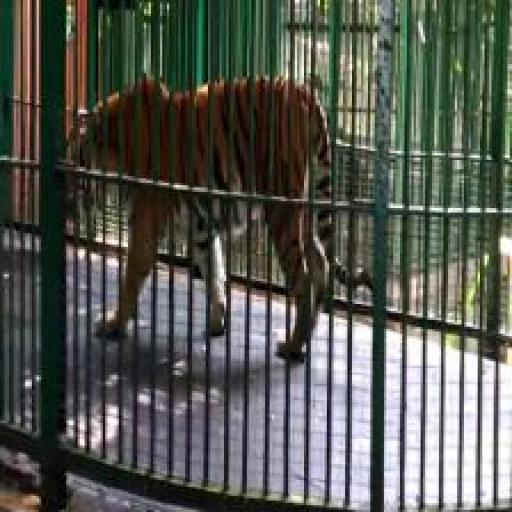Tiger: (57, 64, 375, 362)
